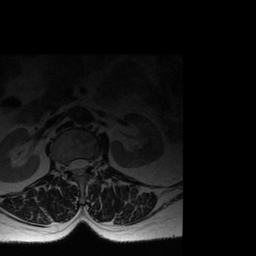CCS_normal: (75, 153, 82, 179)
LFS_normal: (88, 155, 94, 171)
LLS_normal: (82, 154, 88, 176)
RFS_normal: (63, 158, 69, 175)
RLS_normal: (68, 155, 75, 175)
